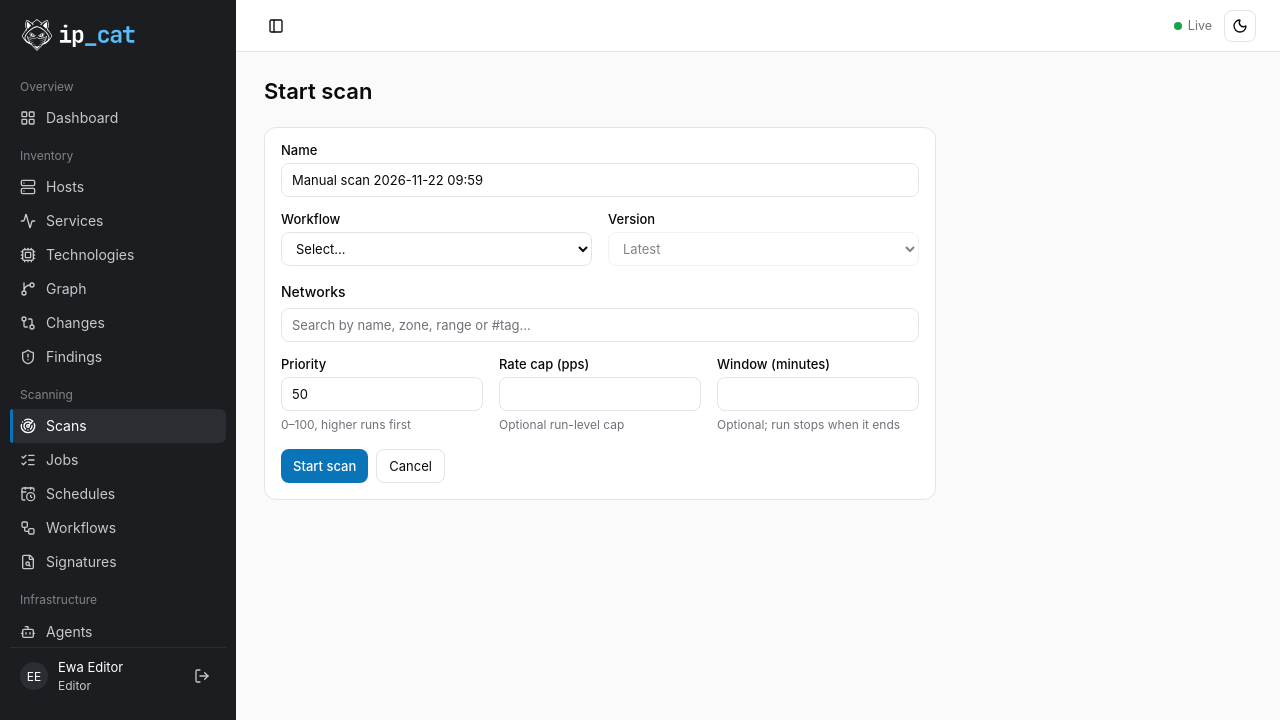
Scenario: scan detail live progress › maps a validation ProblemDetails from POST /api/scans onto the form
The image size is (1280, 720).
Select "Quick port sweep (quick-ports)" in the dropdown labelled "Workflow": (436, 249) [281, 232, 592, 266]
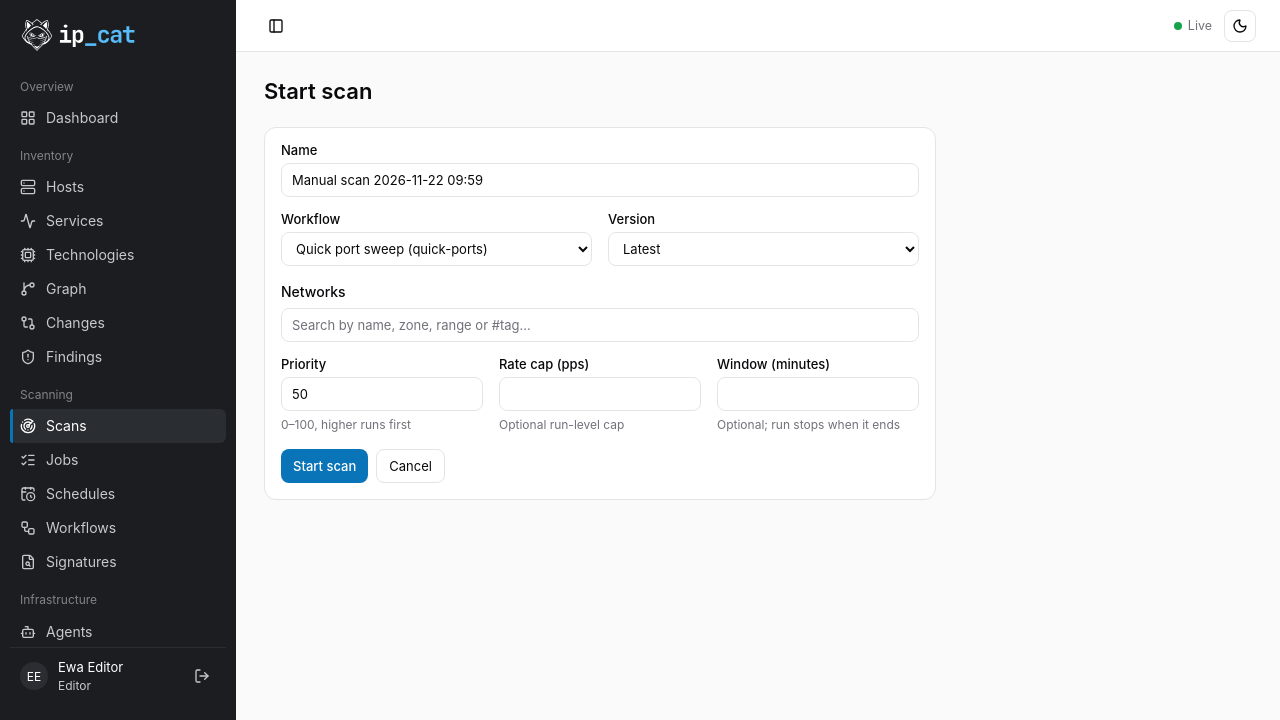
In the dropdown named "Search networks": (600, 325) [281, 308, 919, 342], type "DMZ public"
Then press Enter
(page scrolled)
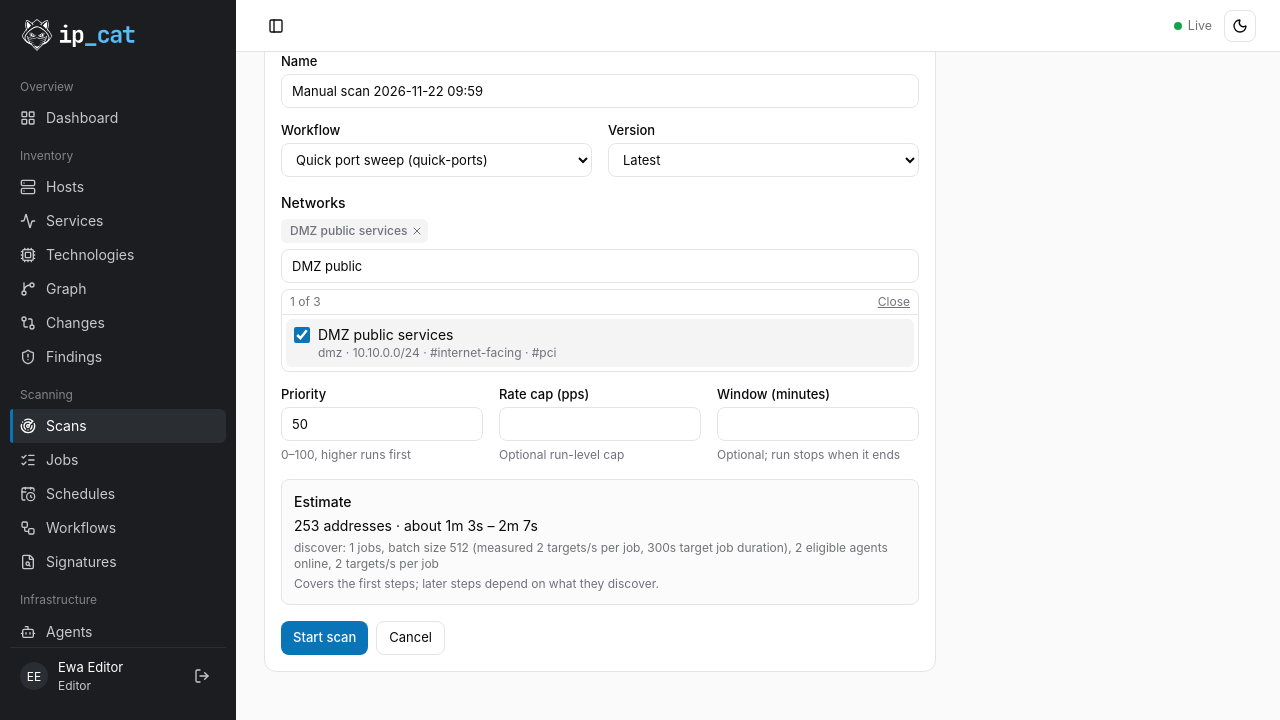
Click the button "Start scan": (325, 638) [281, 621, 368, 655]
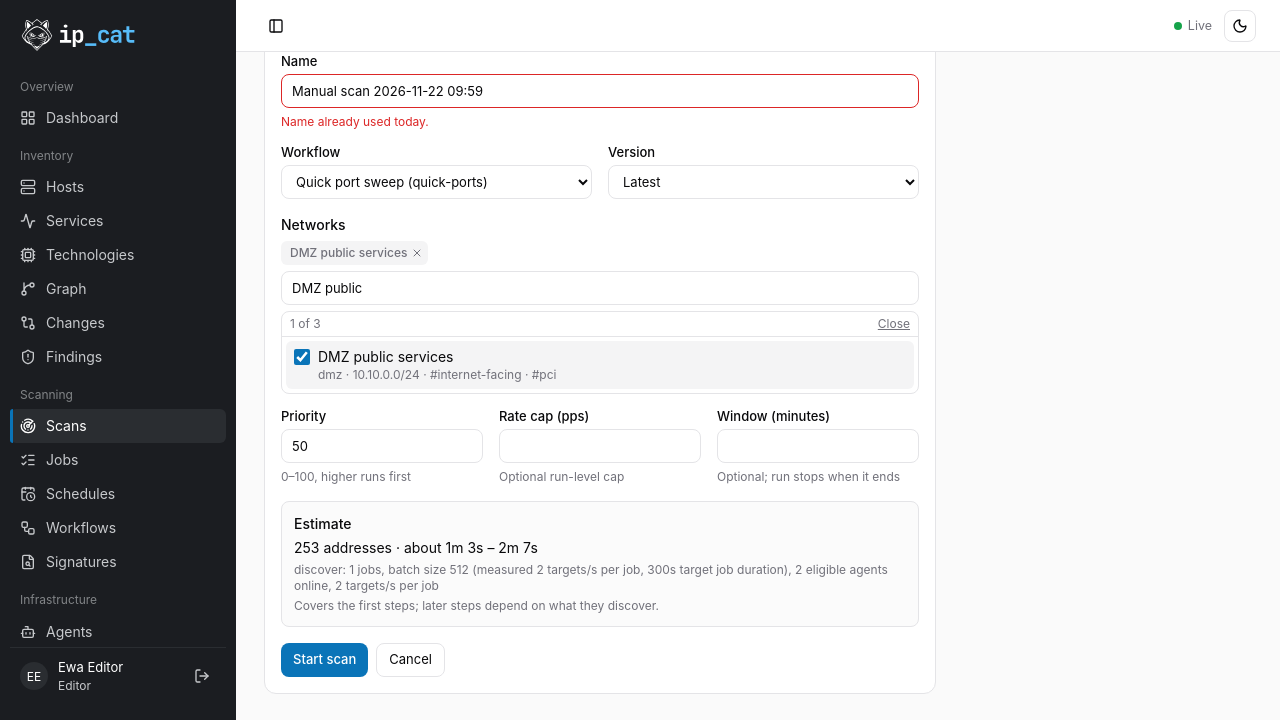
expect the text "Name already used today." is shown: met, box [281, 114, 429, 129]
